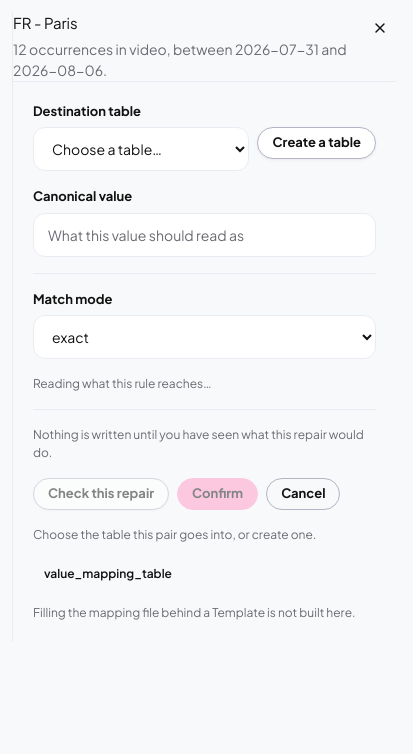
S3 — the repair drawer › holds the confirm until the repair has been checked
Expected: the element with test id "repair-reach" is shown, 33,376 -> 212,391
Select "Country vocabulary" in the dropdown with test id "repair-destination" at [141, 149], box 33,127 -> 250,171
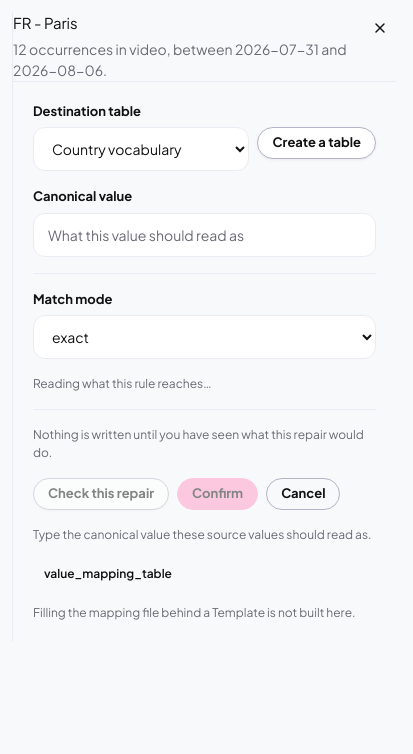
Type "France" into the field with test id "repair-canonical" at [204, 234], box 33,212 -> 376,256
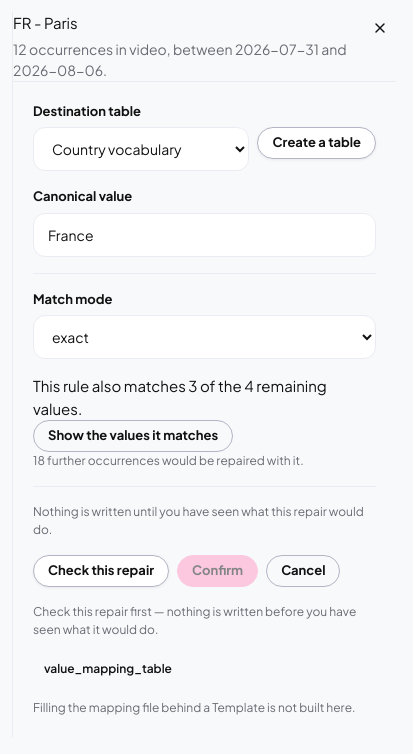
Expected: the button with test id "repair-confirm" is disabled, 177,555 -> 258,587
Expected: the text with test id "repair-blocker" shows "Check this repair first", 33,604 -> 356,637
